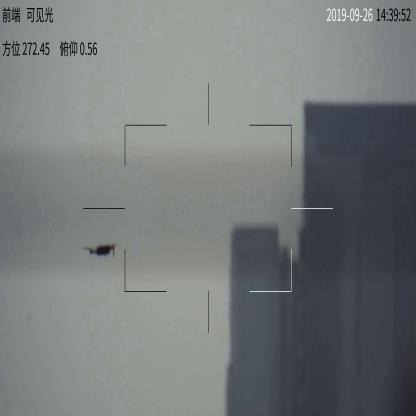uav: (84, 240, 119, 258)
